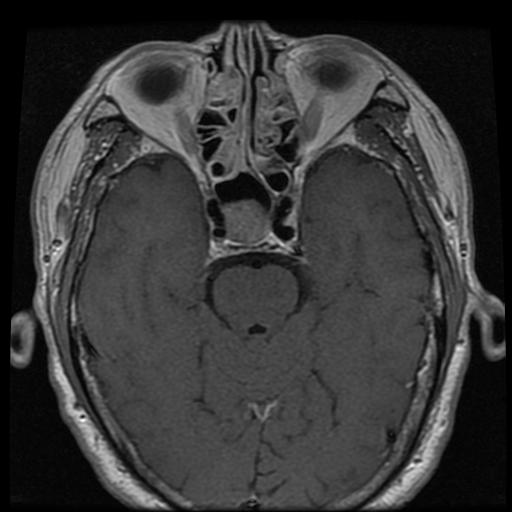Pituirity_tumour: (222, 201, 270, 243)
